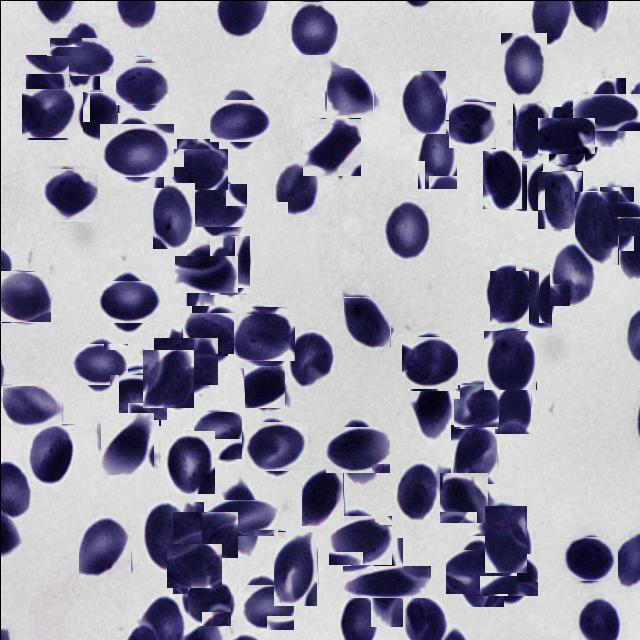red blood cell: (104, 118, 168, 182), (356, 552, 416, 612), (98, 414, 156, 472), (302, 117, 360, 175), (452, 542, 509, 600), (273, 530, 317, 605), (574, 190, 618, 264), (78, 516, 130, 578), (163, 430, 214, 493), (483, 329, 536, 389), (331, 512, 387, 568), (212, 490, 268, 546), (176, 506, 232, 562), (158, 332, 214, 388), (247, 418, 303, 473), (382, 197, 432, 258), (500, 32, 546, 98), (330, 422, 384, 478), (142, 502, 187, 568), (41, 166, 96, 220), (142, 349, 193, 407), (549, 241, 595, 305), (402, 335, 456, 389), (236, 310, 290, 364), (399, 70, 445, 133), (102, 274, 155, 328), (28, 423, 74, 485), (484, 505, 526, 572), (215, 94, 268, 147), (53, 29, 106, 82), (152, 182, 194, 248), (417, 119, 457, 188), (580, 85, 632, 138), (287, 0, 338, 54), (286, 332, 334, 389), (450, 424, 496, 483), (186, 308, 238, 360), (111, 370, 163, 422), (397, 459, 438, 524), (537, 170, 582, 228), (0, 270, 51, 321), (240, 580, 290, 632), (172, 142, 222, 194), (2, 382, 62, 425), (301, 464, 343, 525), (180, 248, 230, 299), (22, 87, 72, 138), (564, 532, 614, 582), (169, 540, 219, 590), (439, 471, 488, 522), (209, 234, 250, 294), (193, 180, 243, 229), (272, 161, 318, 214), (515, 263, 552, 328), (75, 339, 124, 388), (486, 549, 534, 599), (592, 193, 640, 242), (118, 59, 166, 108), (343, 296, 390, 346), (448, 100, 496, 148), (324, 67, 372, 115), (482, 150, 521, 208), (194, 411, 242, 458), (542, 112, 590, 159), (24, 54, 68, 104), (512, 102, 550, 158), (187, 578, 231, 626), (489, 270, 528, 324), (414, 378, 450, 436), (494, 378, 530, 433), (454, 383, 498, 427), (82, 91, 118, 141), (506, 160, 542, 210), (243, 365, 285, 407)
